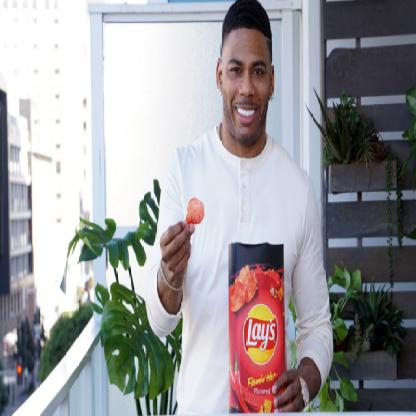potatochip: (226, 240, 288, 415)
